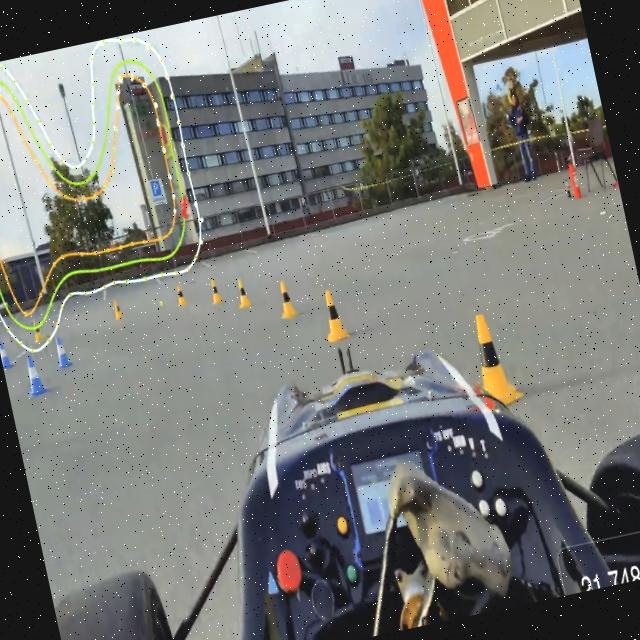blue_cone: (22, 351, 48, 397), (52, 333, 72, 370), (0, 335, 13, 368)
yellow_cone: (462, 298, 521, 402), (316, 282, 351, 345), (274, 276, 298, 321), (232, 273, 252, 311), (206, 276, 224, 306), (28, 316, 46, 346), (172, 282, 188, 309), (110, 295, 124, 321)
